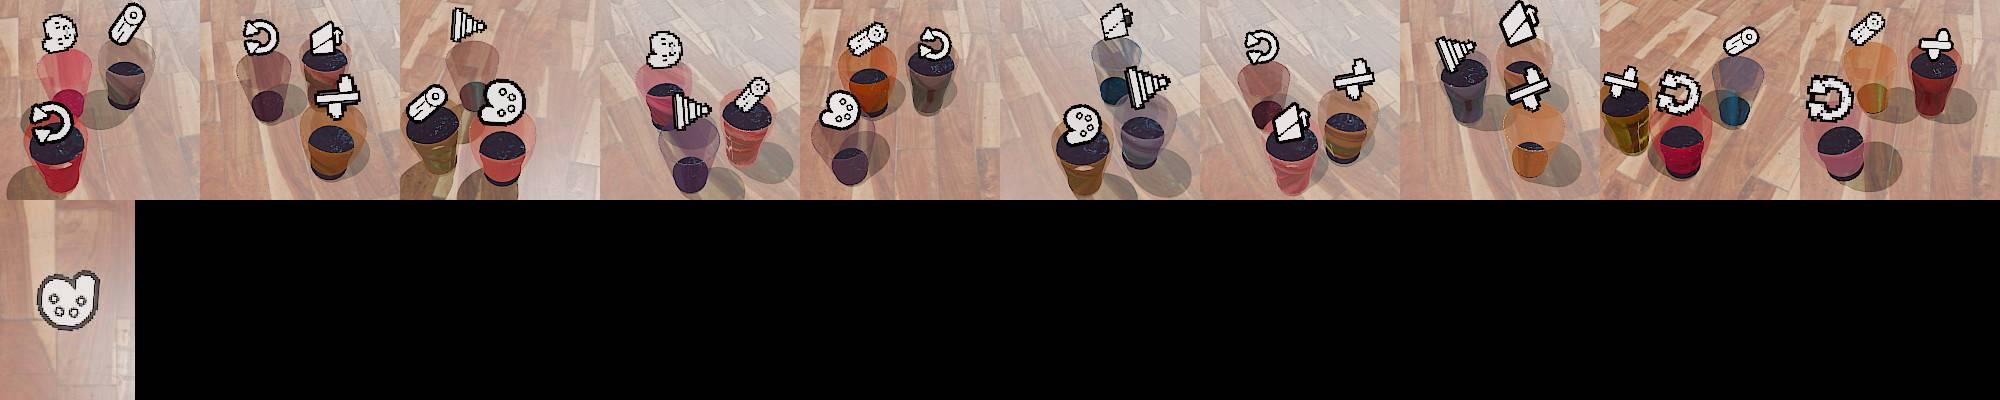icon: (34, 270, 101, 331), (1804, 73, 1855, 122), (477, 78, 527, 126), (1654, 69, 1702, 118), (1506, 62, 1551, 113), (1124, 64, 1171, 110), (315, 73, 362, 117), (1332, 56, 1376, 102), (1499, 0, 1541, 47), (1269, 99, 1312, 144), (29, 99, 73, 144), (1061, 102, 1102, 146), (1435, 36, 1478, 76), (406, 83, 449, 124), (673, 90, 714, 131), (108, 3, 147, 46), (821, 89, 861, 130), (847, 20, 889, 57), (307, 19, 347, 57), (41, 14, 78, 55), (647, 29, 684, 69), (242, 18, 279, 57), (732, 75, 769, 113), (1848, 11, 1886, 47), (1244, 28, 1279, 66), (1099, 3, 1134, 42), (1602, 65, 1642, 99), (1918, 27, 1955, 62), (450, 6, 486, 43), (1722, 24, 1760, 57), (917, 25, 952, 60)
